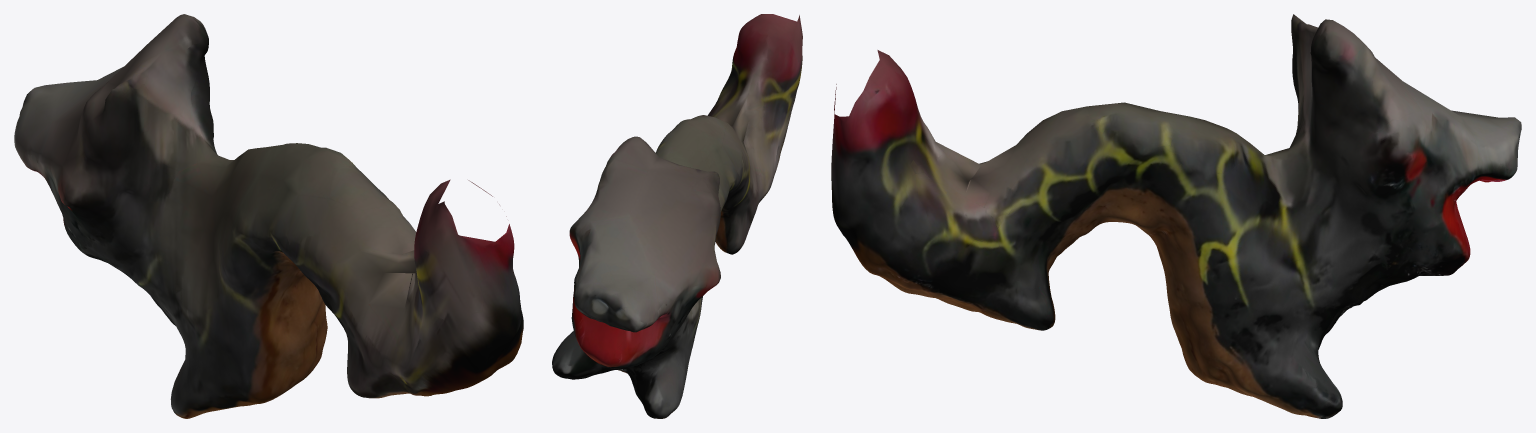
The picture shows the model from 3 angles, left to right: view 1: azimuth 30°, elevation 25°; view 2: azimuth 150°, elevation 25°; view 3: azimuth 270°, elevation 25°; orthographic projection. The views are drawn at different scales.
Bounding box in the file's own units: 0.3232 × 0.5043 × 0.8137.
Materials: 1 (1 with a texture image).
